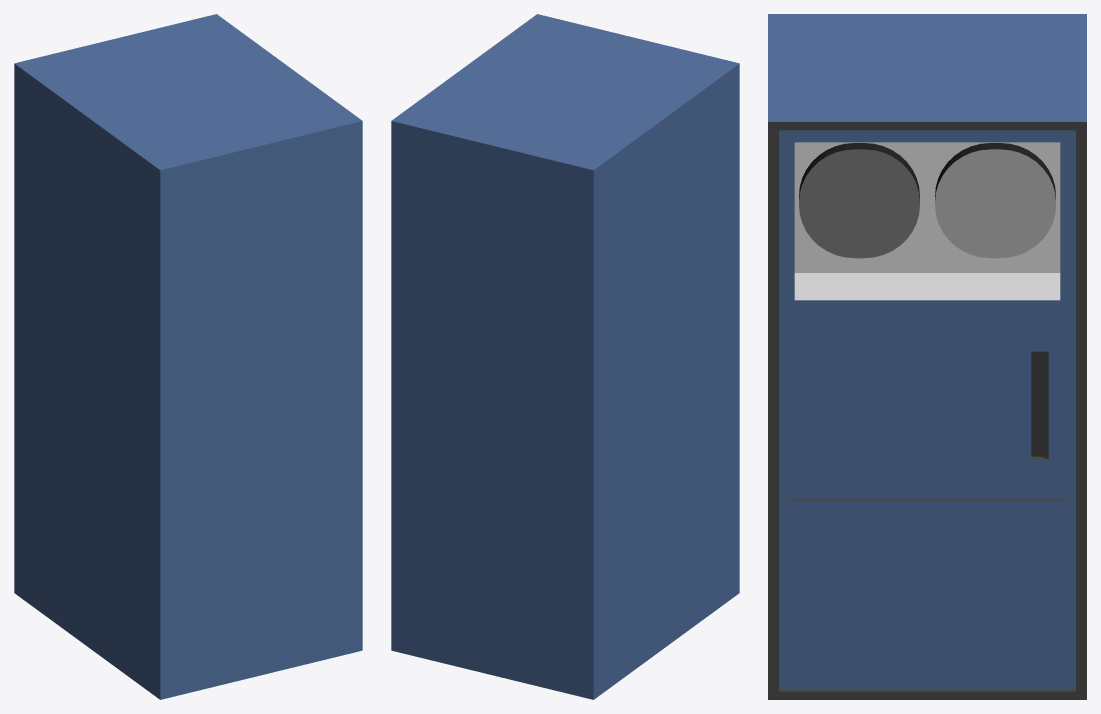
Rendered from TapeReel_2.fbx.
The picture shows the model from 3 angles, left to right: view 1: azimuth 30°, elevation 25°; view 2: azimuth 150°, elevation 25°; view 3: azimuth 270°, elevation 25°; orthographic projection. The views are drawn at different scales.
Visible parts, largest first — view 1: Cube; view 2: Cube; view 3: Cube.
Part boxes in pixels (box(x1,y1,x2,y2)): Cube: box(14, 14, 362, 699); Cube: box(391, 14, 739, 699); Cube: box(768, 14, 1086, 699).
Size of the model in its own units: 80 by 200 by 100.
